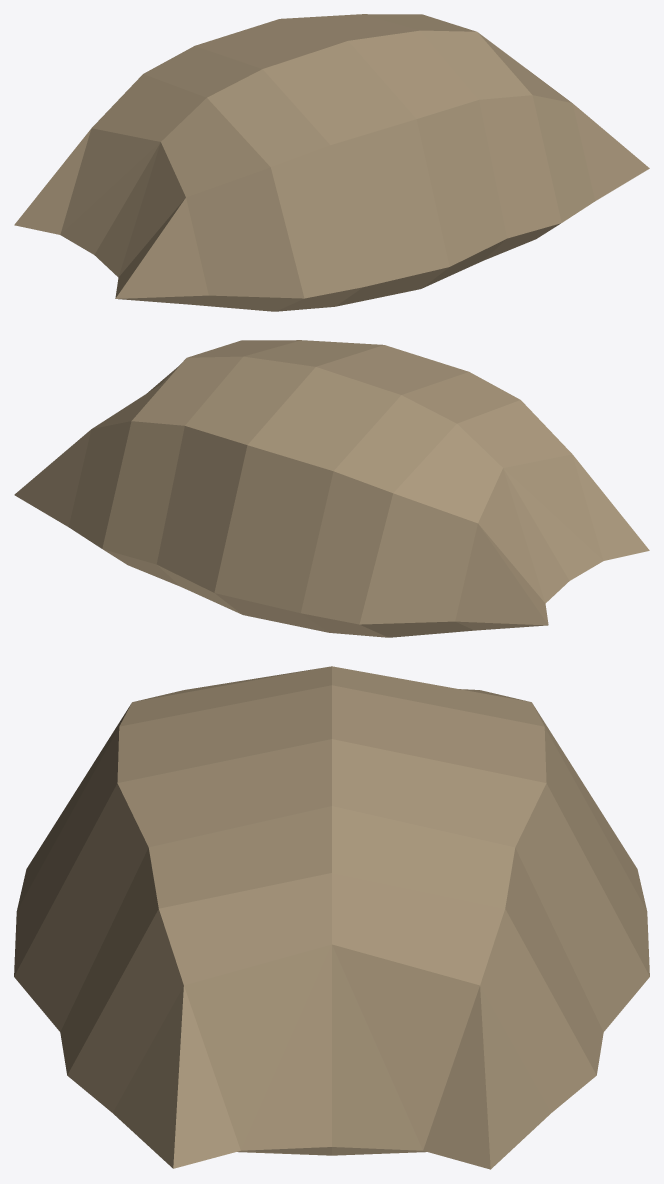
Rendered from MO_SackNormal.fbx.
3 renders of one model, top to bottom at view 1: azimuth 30°, elevation 25°; view 2: azimuth 150°, elevation 25°; view 3: azimuth 270°, elevation 25°, orthographic. The views are drawn at different scales.
Visible parts, largest first — view 1: pCube1; view 2: pCube1; view 3: pCube1.
Part boxes in pixels (left/top/right/bottom): pCube1: left=14, top=14, right=649, bottom=311; pCube1: left=14, top=340, right=649, bottom=637; pCube1: left=14, top=666, right=649, bottom=1169.
Size of the model in its own units: 2.81 by 1.04 by 1.85.
